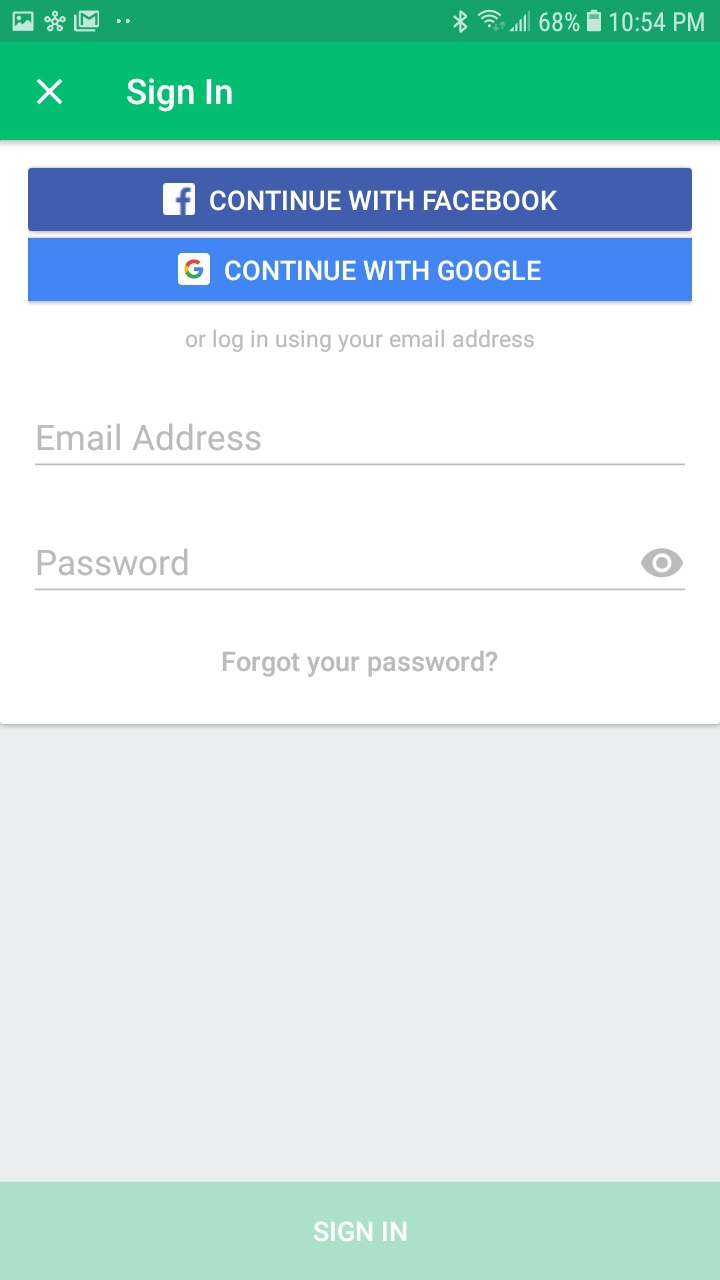EditText: (35, 423, 686, 466), (35, 548, 686, 591)
Icon: (641, 548, 684, 578), (37, 79, 64, 106)
Text: (186, 329, 535, 353), (223, 649, 498, 678), (38, 423, 261, 452), (38, 548, 189, 577), (127, 78, 233, 113)
TextButton: (1, 1182, 720, 1280), (29, 169, 692, 232), (29, 239, 692, 302)
UpperTaskBar: (1, 1, 720, 43)
